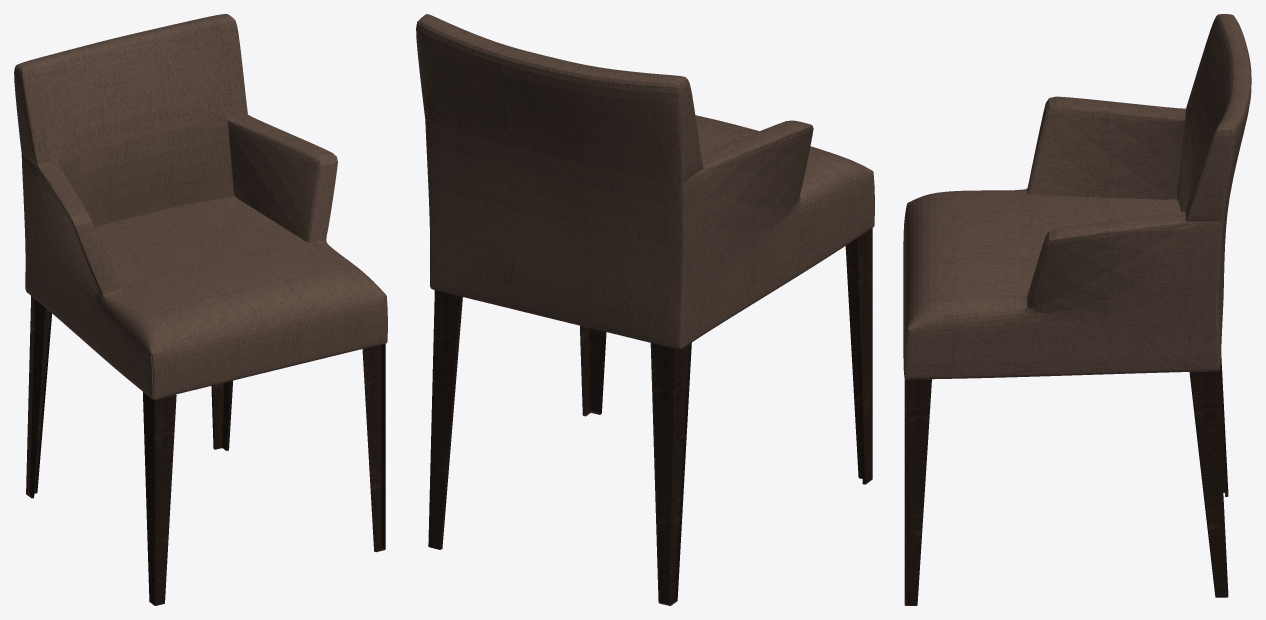
The model's file is sweethome3d-blendswap-cc-0-chair-92.glb.
3 renders of one model, left to right at view 1: azimuth 30°, elevation 25°; view 2: azimuth 150°, elevation 25°; view 3: azimuth 270°, elevation 25°, orthographic. The views are drawn at different scales.
Parts seen in each view (by area): view 1: obj_44.001_Untitled.001, obj_47.001_Untitled.004, obj_45.001_Untitled.002, obj_43.001_Untitled.000, obj_46.001_Untitled.003; view 2: obj_44.001_Untitled.001, obj_43.001_Untitled.000, obj_46.001_Untitled.003, obj_47.001_Untitled.004, obj_45.001_Untitled.002; view 3: obj_44.001_Untitled.001, obj_46.001_Untitled.003, obj_45.001_Untitled.002, obj_43.001_Untitled.000.
Boxes of the visible parts, bbox=[...] form: obj_44.001_Untitled.001: bbox=[14, 14, 387, 399]; obj_47.001_Untitled.004: bbox=[143, 392, 176, 605]; obj_45.001_Untitled.002: bbox=[362, 344, 385, 552]; obj_43.001_Untitled.000: bbox=[26, 296, 51, 498]; obj_46.001_Untitled.003: bbox=[211, 380, 232, 450]; obj_44.001_Untitled.001: bbox=[416, 14, 874, 349]; obj_43.001_Untitled.000: bbox=[650, 342, 691, 605]; obj_46.001_Untitled.003: bbox=[428, 290, 462, 549]; obj_47.001_Untitled.004: bbox=[845, 228, 872, 484]; obj_45.001_Untitled.002: bbox=[580, 325, 606, 416]; obj_44.001_Untitled.001: bbox=[903, 14, 1251, 379]; obj_46.001_Untitled.003: bbox=[1189, 371, 1228, 597]; obj_45.001_Untitled.002: bbox=[904, 379, 931, 605]; obj_43.001_Untitled.000: bbox=[1217, 352, 1228, 496].
Size of the model in its own units: 51.32 by 79.96 by 53.14.
2 materials, 2 textured.
